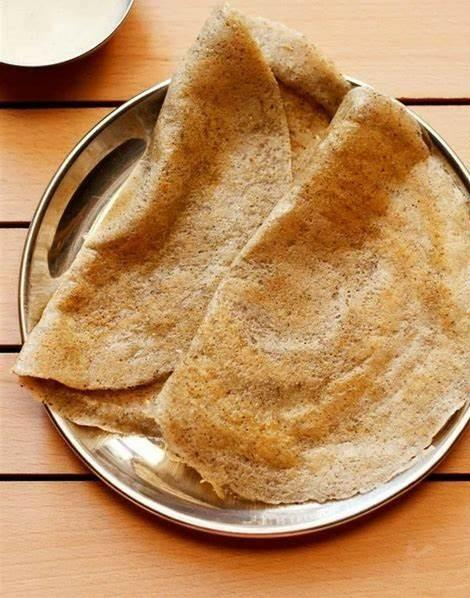Dosa: (11, 3, 347, 435), (156, 88, 470, 504)
